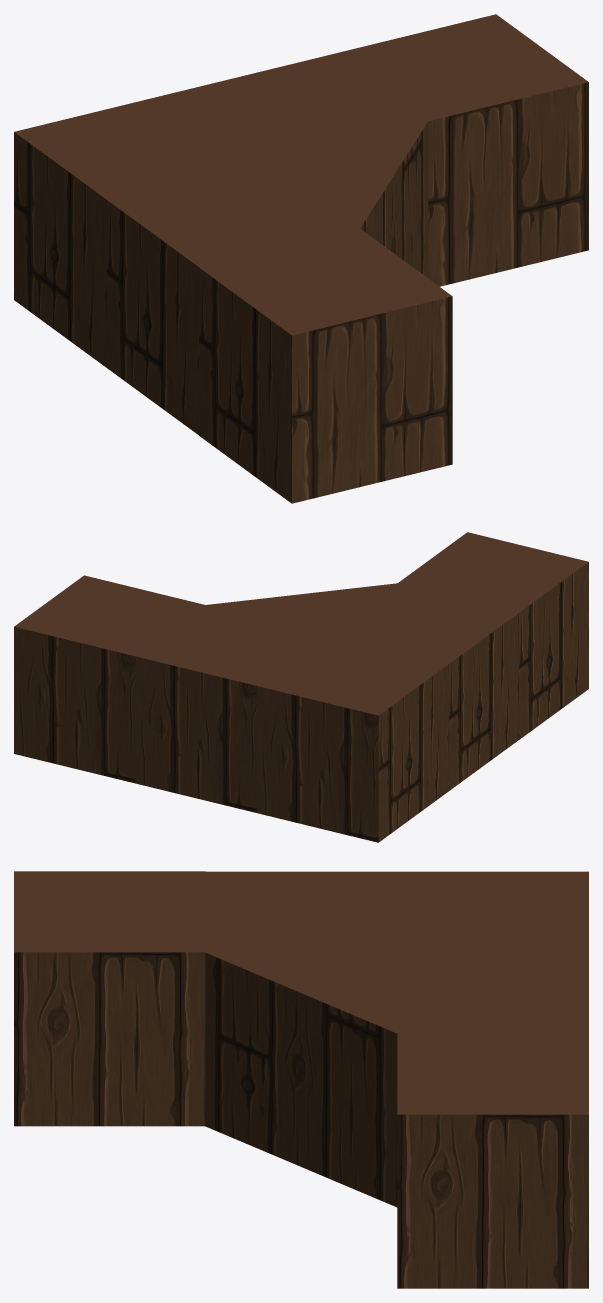
The model's file is muro_angolo_giusto.fbx.
3 views of the same model, one above another, from view 1: azimuth 30°, elevation 25°; view 2: azimuth 150°, elevation 25°; view 3: azimuth 270°, elevation 25° (orthographic). The views are drawn at different scales.
Visible parts, largest first — view 1: Muro_angolo_giusto; view 2: Muro_angolo_giusto; view 3: Muro_angolo_giusto.
Boxes of the visible parts, x1,y1,x2,y2 form: Muro_angolo_giusto: (14, 14, 588, 503); Muro_angolo_giusto: (14, 532, 588, 842); Muro_angolo_giusto: (14, 871, 588, 1288).
Bounding box in the file's own units: 600 × 200 × 599.
Materials: 2 (2 with a texture image).
